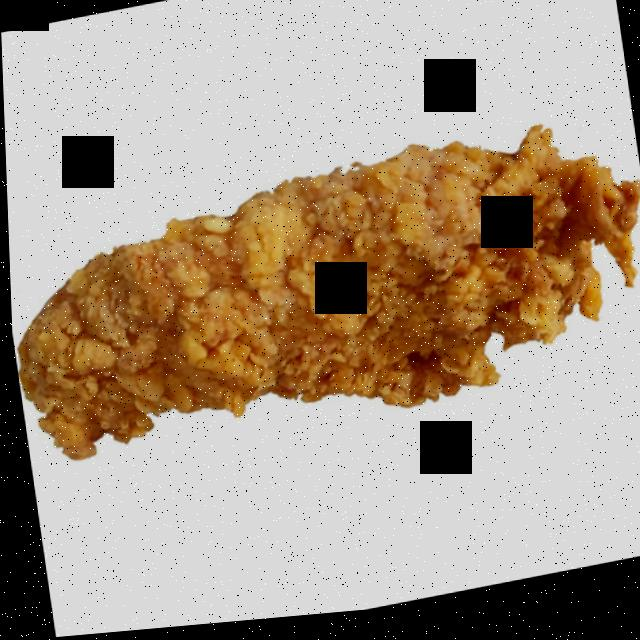Frango: (4, 87, 614, 505)
